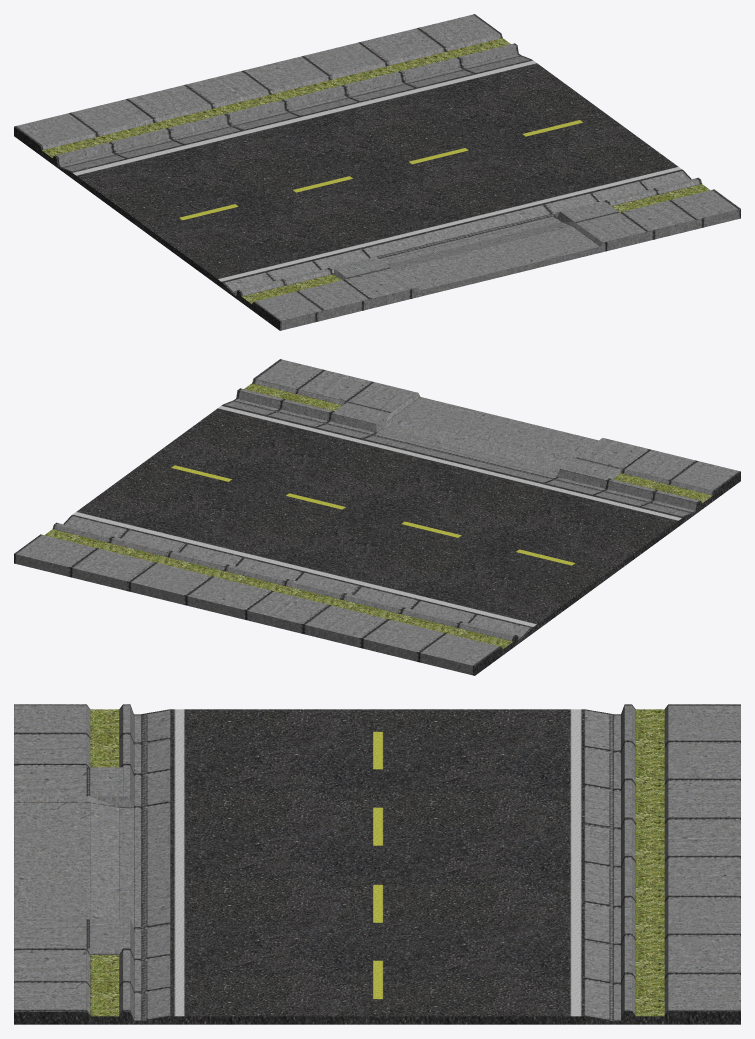
File: Driveway.glb
3 renders of one model, top to bottom at view 1: azimuth 30°, elevation 25°; view 2: azimuth 150°, elevation 25°; view 3: azimuth 270°, elevation 25°, orthographic. The views are drawn at different scales.
Visible parts, largest first — view 1: Road-2-Lane-Driveway; view 2: Road-2-Lane-Driveway; view 3: Road-2-Lane-Driveway.
Boxes of the visible parts, x1,y1,x2,y2 form: Road-2-Lane-Driveway: [14, 14, 740, 330]; Road-2-Lane-Driveway: [14, 359, 740, 675]; Road-2-Lane-Driveway: [14, 704, 740, 1024].
Bounding box in the file's own units: 18 × 0.36 × 18.
Materials: 1 (1 with a texture image).
